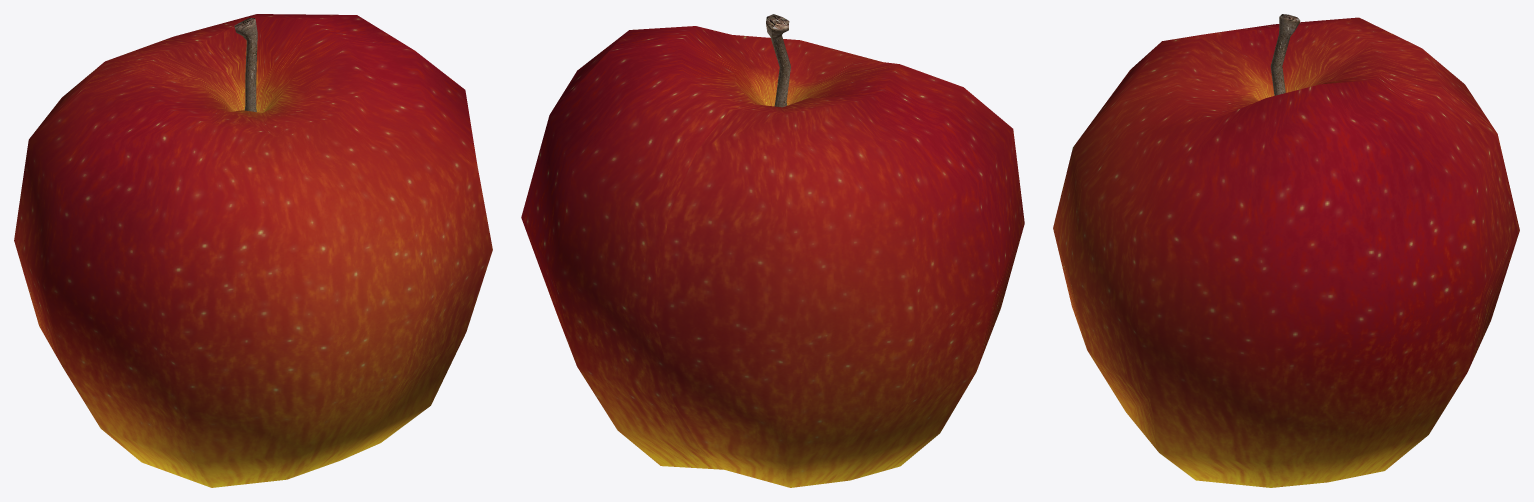
File: Apple.obj
3 views of the same model, side by side, from view 1: azimuth 30°, elevation 25°; view 2: azimuth 150°, elevation 25°; view 3: azimuth 270°, elevation 25° (orthographic). The views are drawn at different scales.
Parts seen in each view (by area): view 1: Skin, Stem; view 2: Skin, Stem; view 3: Skin, Stem.
Boxes of the visible parts, bbox=[...] form: Skin: bbox=[14, 14, 492, 487]; Stem: bbox=[234, 18, 257, 111]; Skin: bbox=[521, 26, 1024, 487]; Stem: bbox=[766, 14, 790, 107]; Skin: bbox=[1053, 17, 1519, 487]; Stem: bbox=[1270, 14, 1300, 95].
Size of the model in its own units: 0.1052 by 0.0988 by 0.0982.
